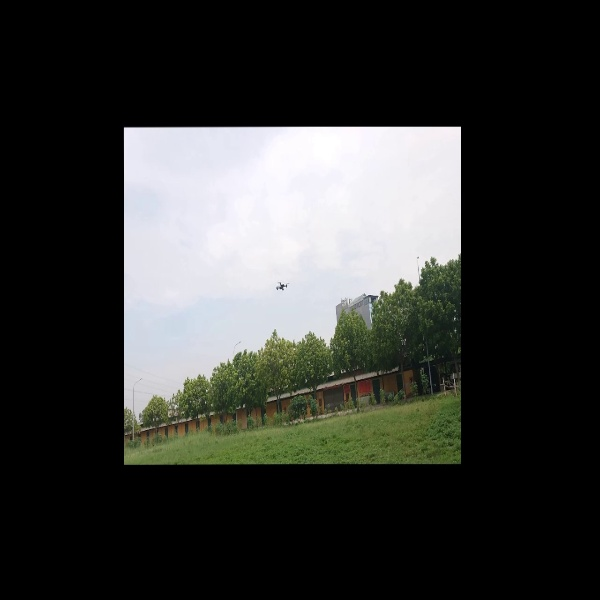drone: (268, 276, 294, 295)
